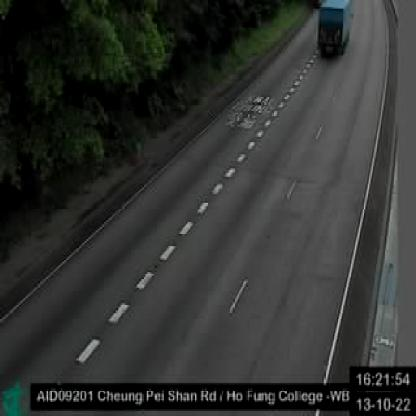Truck: (318, 0, 353, 59)
